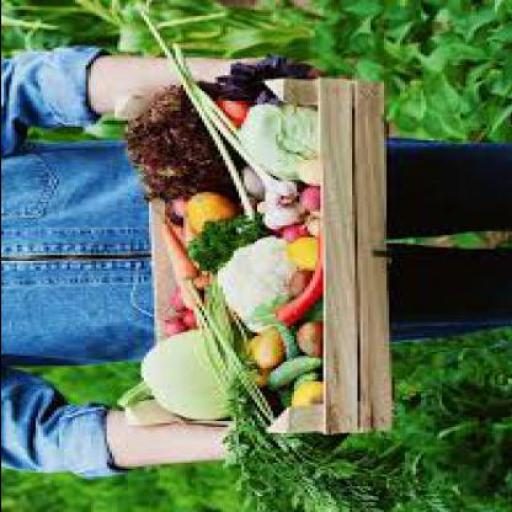biodegradable: (135, 2, 250, 223), (164, 48, 288, 206), (226, 434, 468, 511), (121, 89, 225, 200), (113, 328, 217, 423), (209, 238, 296, 334), (195, 288, 251, 384), (270, 233, 318, 327), (206, 58, 304, 104), (182, 219, 264, 273), (216, 382, 264, 459), (156, 215, 188, 287), (172, 224, 206, 288), (183, 196, 232, 235), (264, 356, 317, 391), (243, 328, 283, 372), (270, 319, 290, 405), (227, 342, 262, 389), (254, 200, 296, 232), (234, 170, 264, 204), (290, 324, 314, 362), (269, 322, 293, 360), (214, 102, 250, 127), (285, 384, 319, 410), (282, 272, 309, 298), (292, 188, 317, 214), (158, 200, 179, 227), (290, 374, 317, 392), (177, 278, 190, 313), (166, 290, 182, 316), (271, 230, 296, 246), (160, 318, 176, 338), (296, 220, 312, 239), (177, 312, 187, 330)
